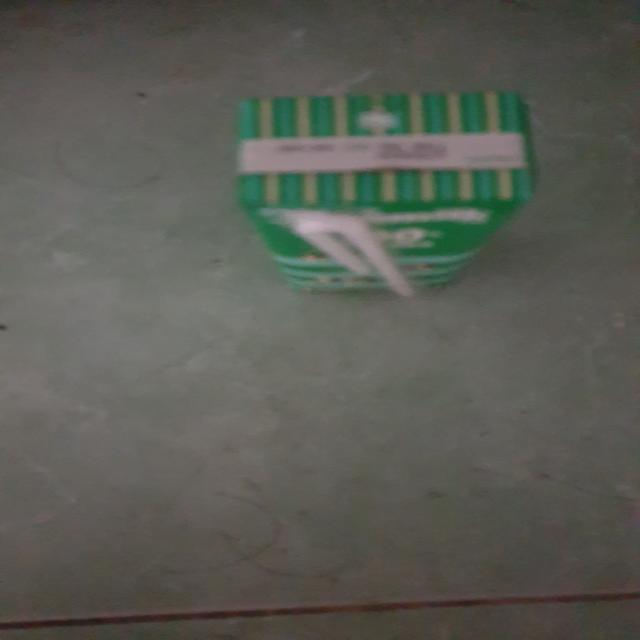Vina: (233, 89, 539, 302)
